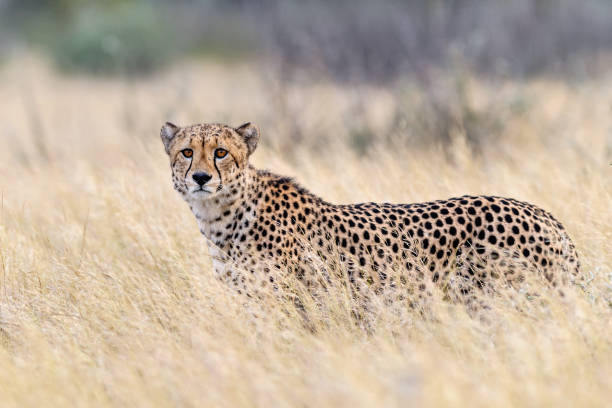cheetah: (146, 100, 271, 224)
